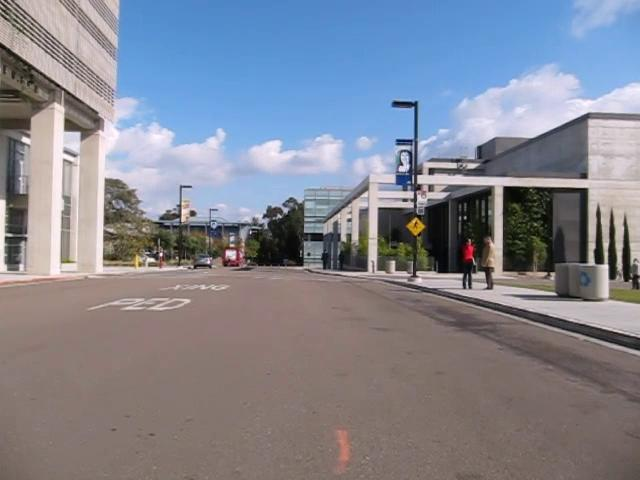pedestrianCrossing: (404, 215, 426, 237)
